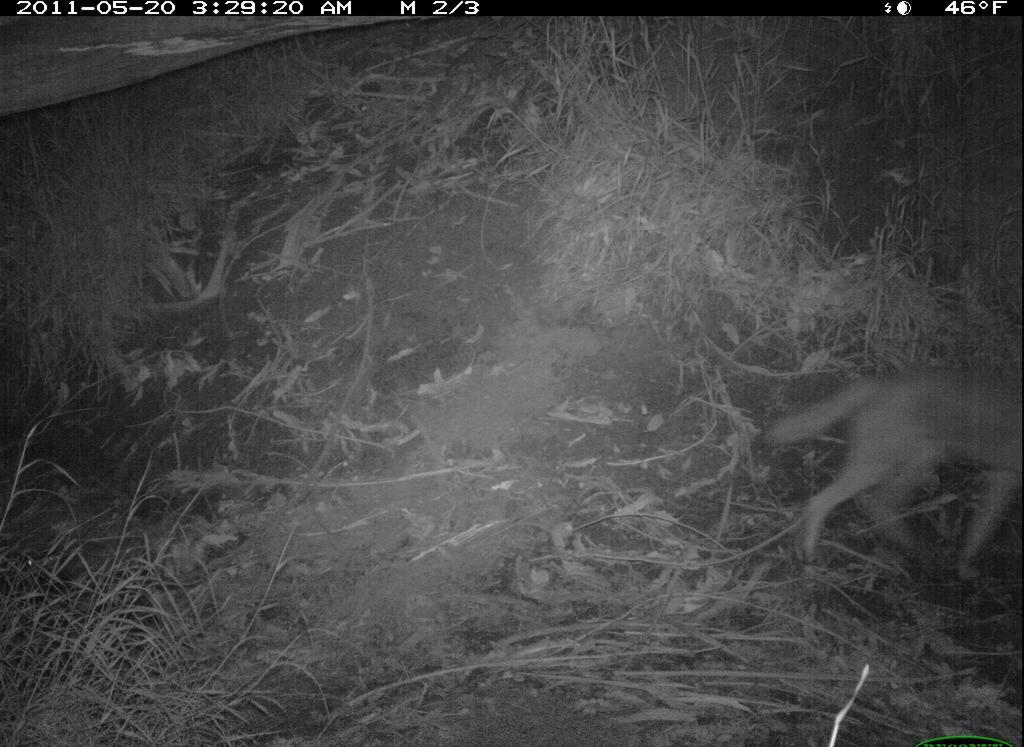coyote: (739, 347, 1022, 602)
